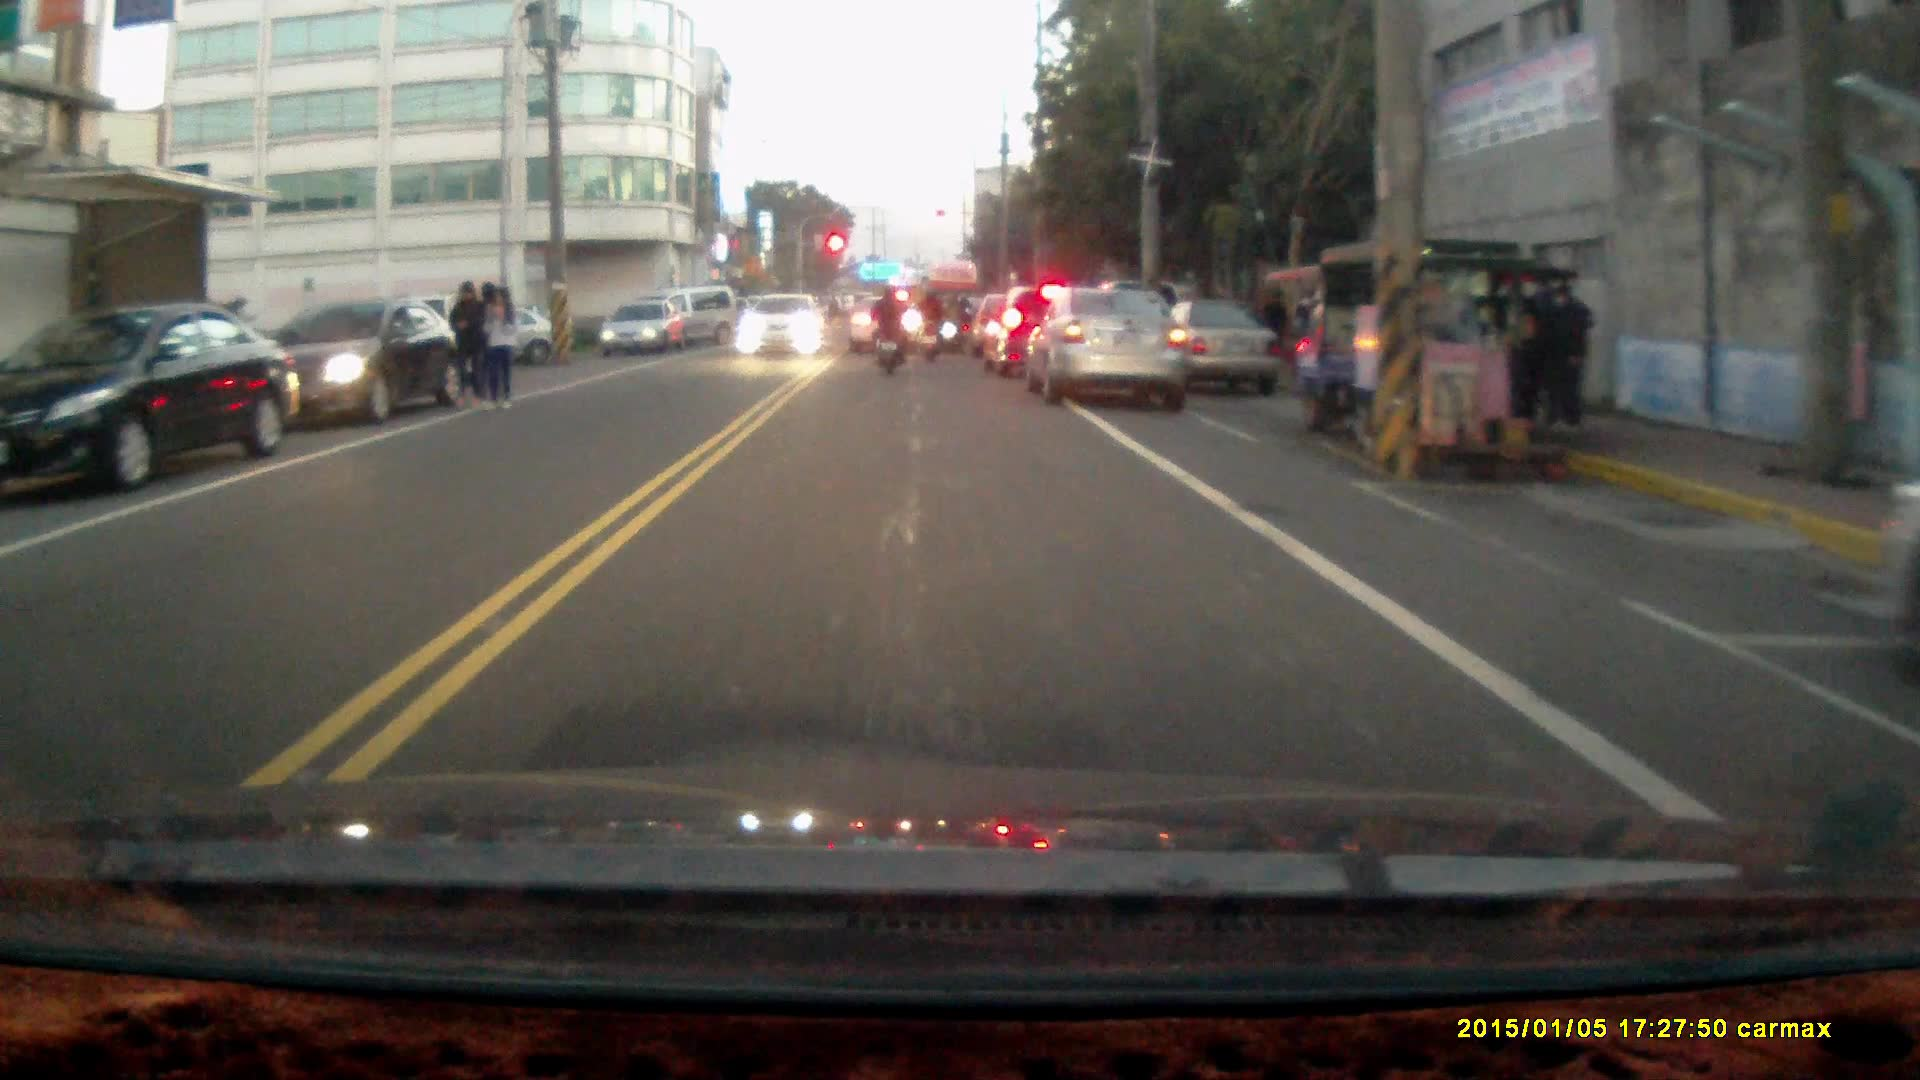pedestrian: (1540, 276, 1595, 430), (446, 278, 486, 415), (481, 284, 516, 413), (1255, 284, 1289, 357)
rider: (867, 280, 906, 372), (911, 282, 946, 363)
vehicle: (1288, 237, 1576, 459), (0, 295, 302, 500), (262, 297, 462, 434), (1029, 278, 1192, 401), (737, 292, 826, 354), (849, 295, 928, 356), (603, 301, 687, 358)
